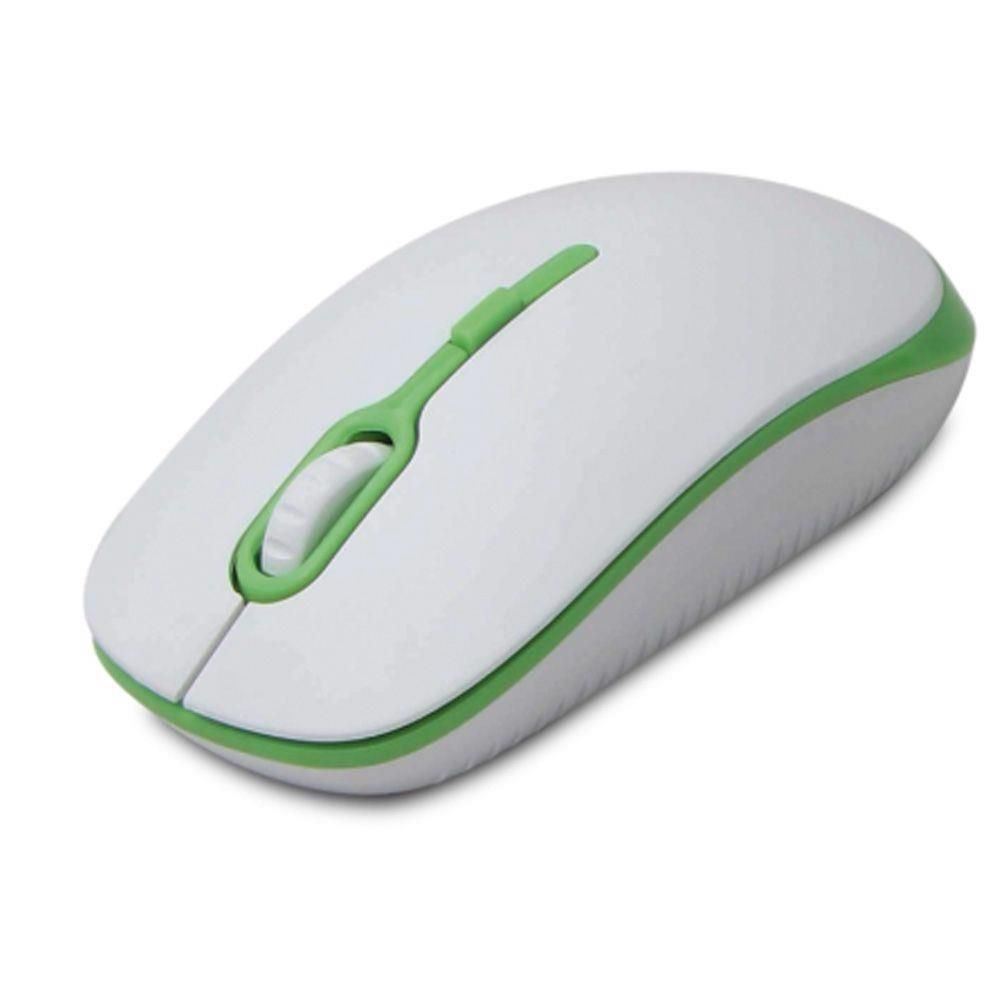mouse: (67, 164, 985, 801)
